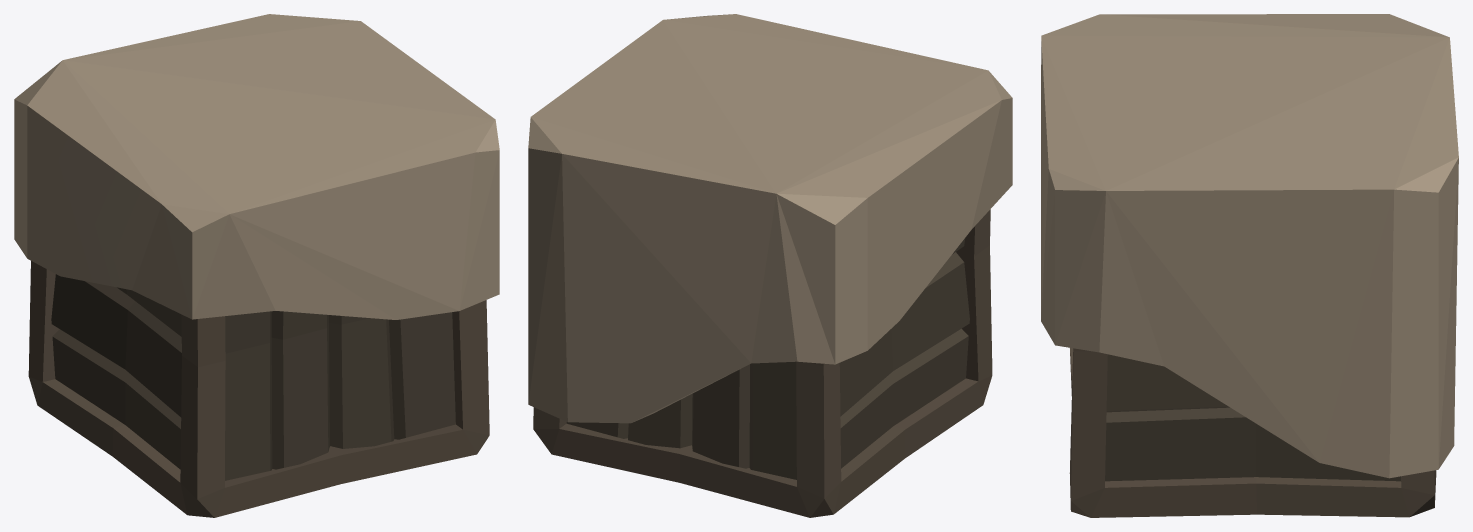
File: SM_Prop_Crate_06.glb
3 views of the same model, side by side, from view 1: azimuth 30°, elevation 25°; view 2: azimuth 150°, elevation 25°; view 3: azimuth 270°, elevation 25° (orthographic). The views are drawn at different scales.
Parts seen in each view (by area): view 1: SM_Prop_Crate_06; view 2: SM_Prop_Crate_06; view 3: SM_Prop_Crate_06.
Part boxes in pixels (<box>): SM_Prop_Crate_06: <box>14,14,499,517</box>; SM_Prop_Crate_06: <box>528,14,1012,517</box>; SM_Prop_Crate_06: <box>1041,14,1458,517</box>.
Bounding box in the file's own units: 0.00965 × 0.00889 × 0.00962.
